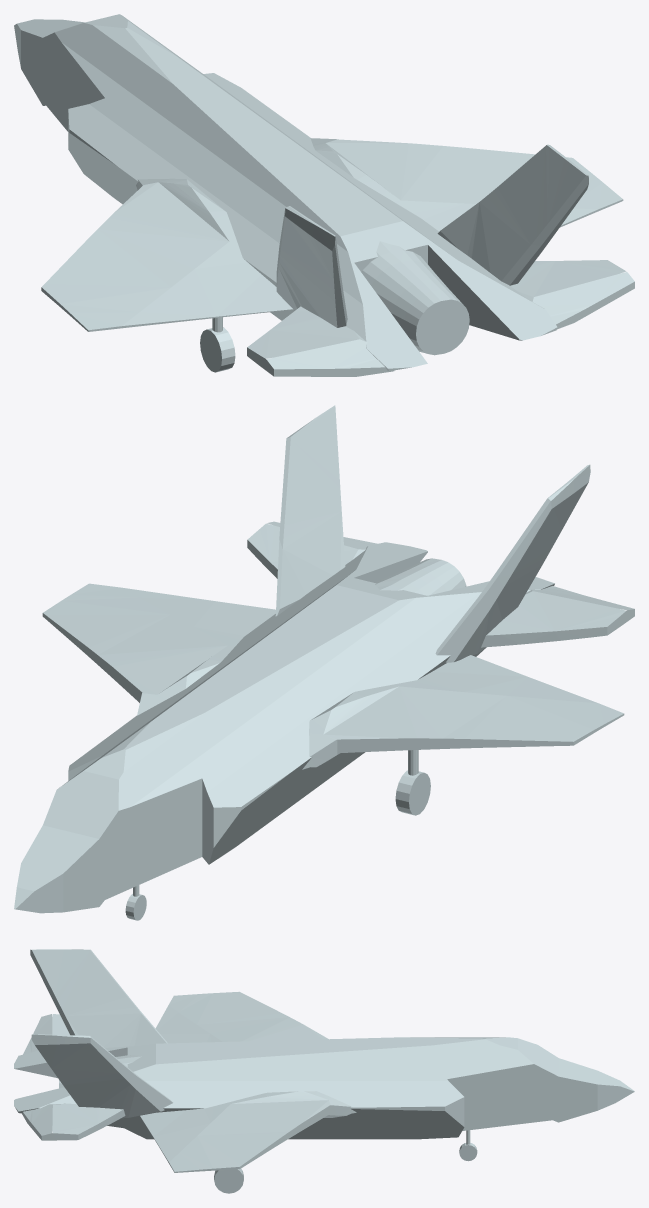
The picture shows the model from 3 angles, top to bottom: view 1: azimuth 30°, elevation 25°; view 2: azimuth 150°, elevation 25°; view 3: azimuth 270°, elevation 25°; orthographic projection. The views are drawn at different scales.
Visible parts, largest first — view 1: Aircraft visual hull, Landing gear; view 2: Aircraft visual hull, Landing gear; view 3: Aircraft visual hull, Landing gear.
Part boxes in pixels (box(x1,y1,x2,y2)): Aircraft visual hull: box(14, 14, 634, 376); Landing gear: box(200, 317, 235, 372); Aircraft visual hull: box(14, 405, 634, 913); Landing gear: box(125, 750, 430, 920); Aircraft visual hull: box(14, 949, 634, 1172); Landing gear: box(214, 1130, 477, 1193).
Size of the model in its own units: 10.5 by 4.66 by 15.65.
